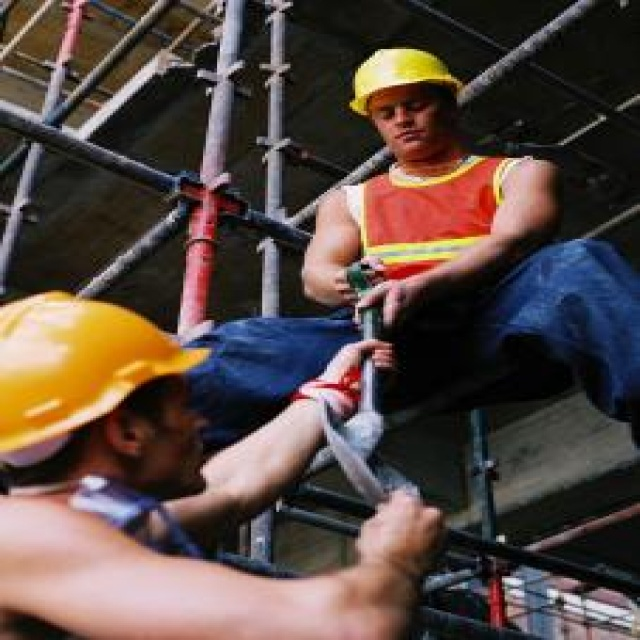Helmet: (1, 270, 223, 507), (337, 41, 471, 172)
Reflective vest: (350, 145, 531, 295)
